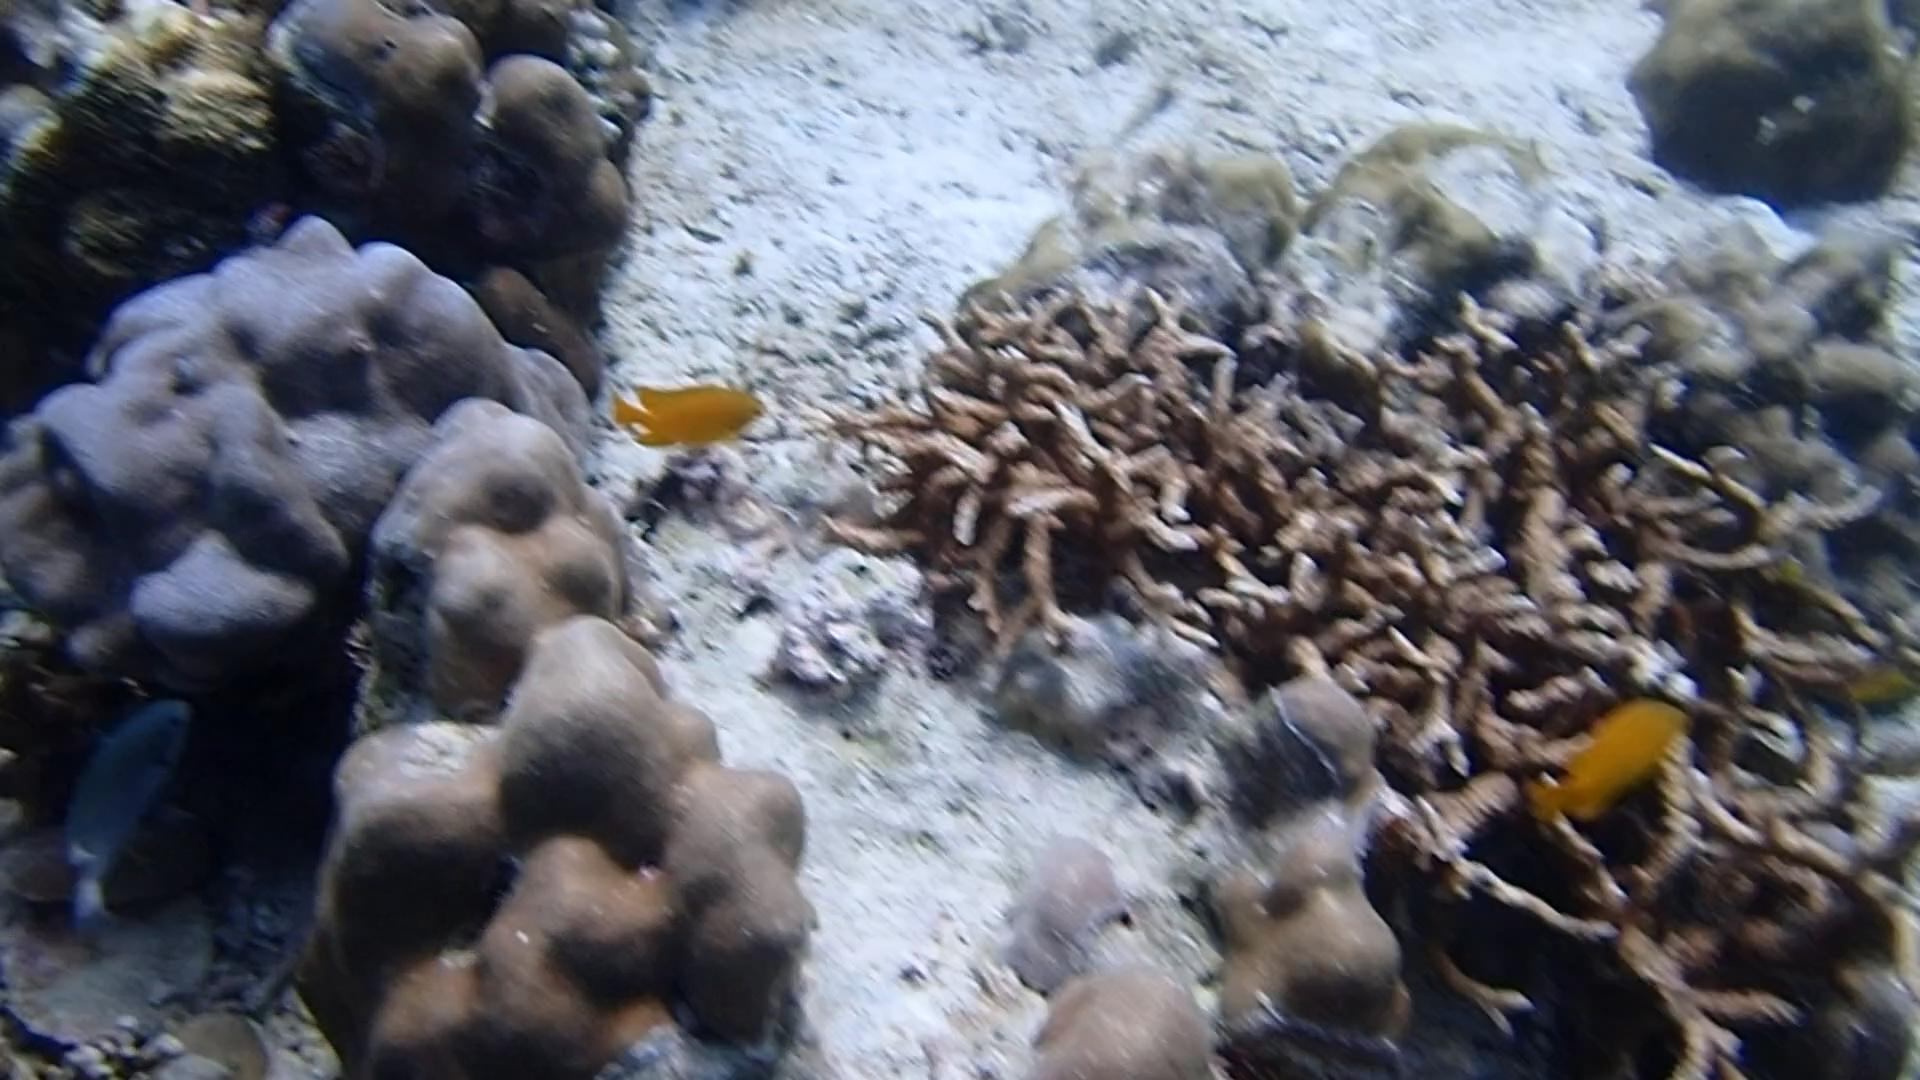Blue Fish Two: (55, 688, 190, 945)
Yellow Fish: (1518, 686, 1692, 835), (603, 361, 767, 465)
